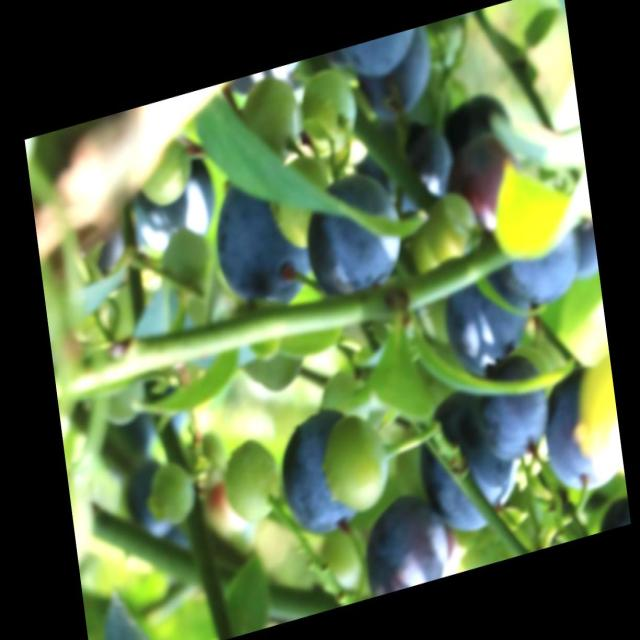blueberry: (416, 384, 519, 540), (214, 164, 310, 324), (303, 167, 405, 305), (274, 397, 368, 539), (439, 255, 530, 379), (537, 362, 618, 500), (356, 490, 456, 598), (473, 353, 551, 469), (361, 24, 437, 126), (135, 158, 214, 250), (398, 127, 455, 211)
blueberry-unripe: (319, 404, 395, 518), (216, 431, 285, 531), (237, 72, 303, 170), (299, 64, 363, 160), (139, 456, 202, 540)
